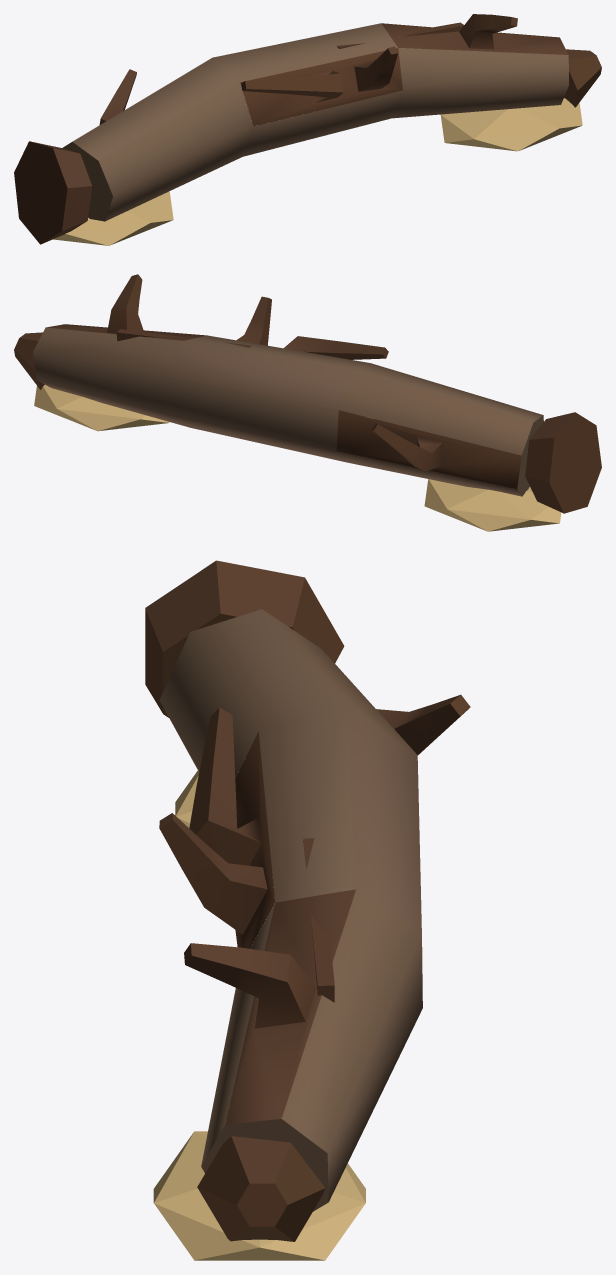
File: prop_driftwood_log_a.glb
3 views of the same model, one above another, from view 1: azimuth 30°, elevation 25°; view 2: azimuth 150°, elevation 25°; view 3: azimuth 270°, elevation 25° (orthographic). The views are drawn at different scales.
Visible parts, largest first — view 1: driftwood_trunk, driftwood_break_end, driftwood_sand_drift_0; view 2: driftwood_trunk, driftwood_break_end, driftwood_sand_drift_0; view 3: driftwood_trunk, driftwood_break_end, driftwood_sand_drift_0.
Boxes of the visible parts, box(x1,y1,x2,y2) form: driftwood_trunk: box(62, 23, 568, 221); driftwood_break_end: box(14, 14, 601, 244); driftwood_sand_drift_0: box(53, 98, 582, 245); driftwood_trunk: box(33, 327, 543, 496); driftwood_break_end: box(14, 274, 601, 513); driftwood_sand_drift_0: box(34, 385, 561, 531); driftwood_trunk: box(159, 609, 422, 1211); driftwood_break_end: box(145, 560, 470, 1241); driftwood_sand_drift_0: box(153, 758, 365, 1260).
Size of the model in its own units: 2.27 by 0.5287 by 0.5747.
